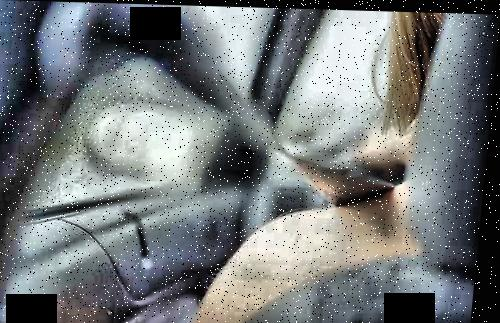seatbelt: (137, 29, 397, 213)
